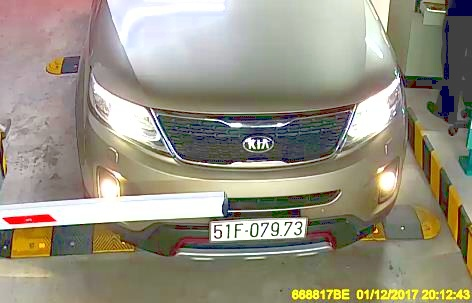plate: (208, 217, 307, 242)
